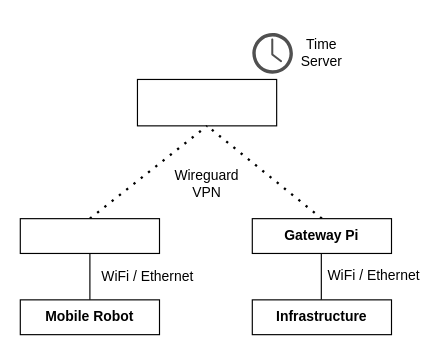
Image size: 447x355. Some labels were removed from this diagram. The shapes that lost their labels are listed below. From the top down, each one's centre as x and y in pixels, then its label:
the point at 206,102: RMF Instance
the point at 89,235: Gateway
